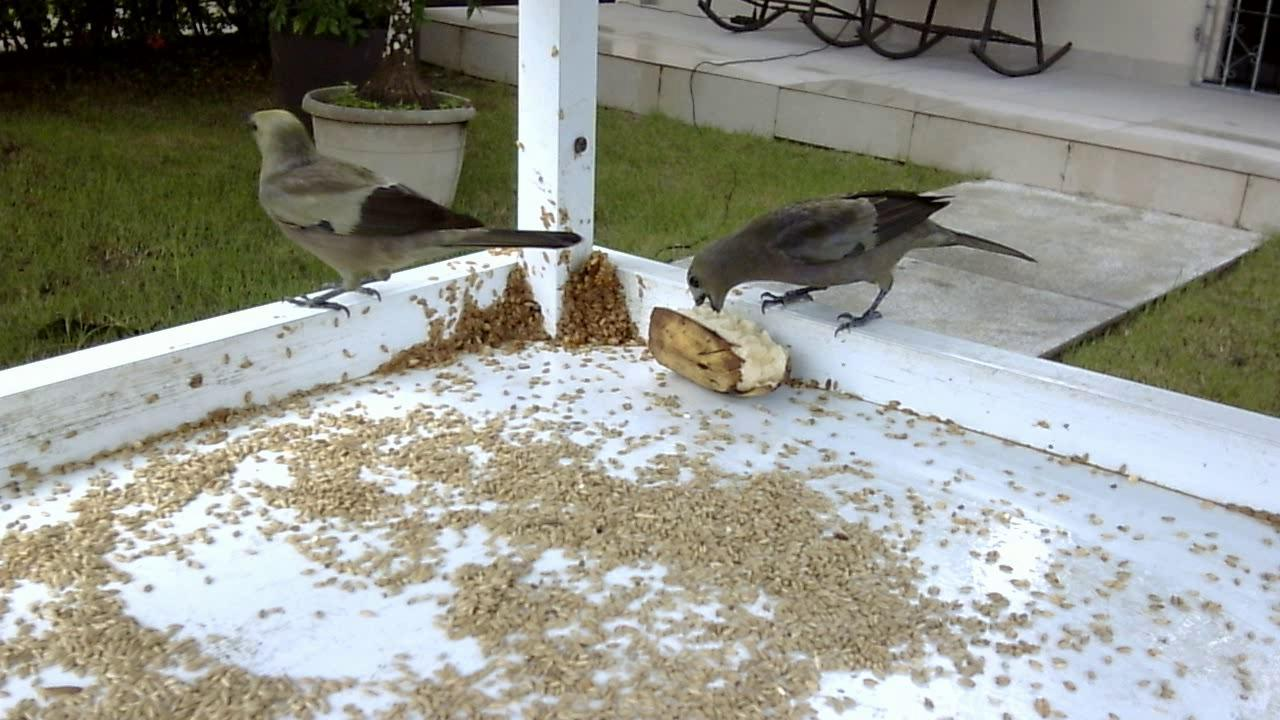sanhaco_do_coqueiro: (238, 105, 580, 329), (679, 170, 1046, 352)
